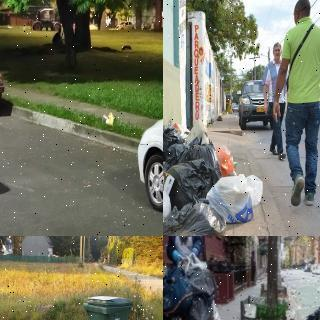Garbage: (208, 174, 266, 224), (163, 200, 230, 236), (168, 158, 215, 204), (102, 111, 117, 130)
